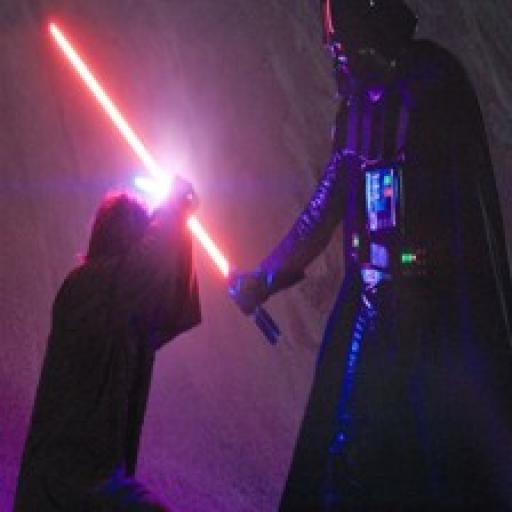human: (229, 0, 512, 512), (8, 172, 206, 512)
lightsaber: (131, 176, 198, 206)
sith saber: (49, 24, 287, 348)
